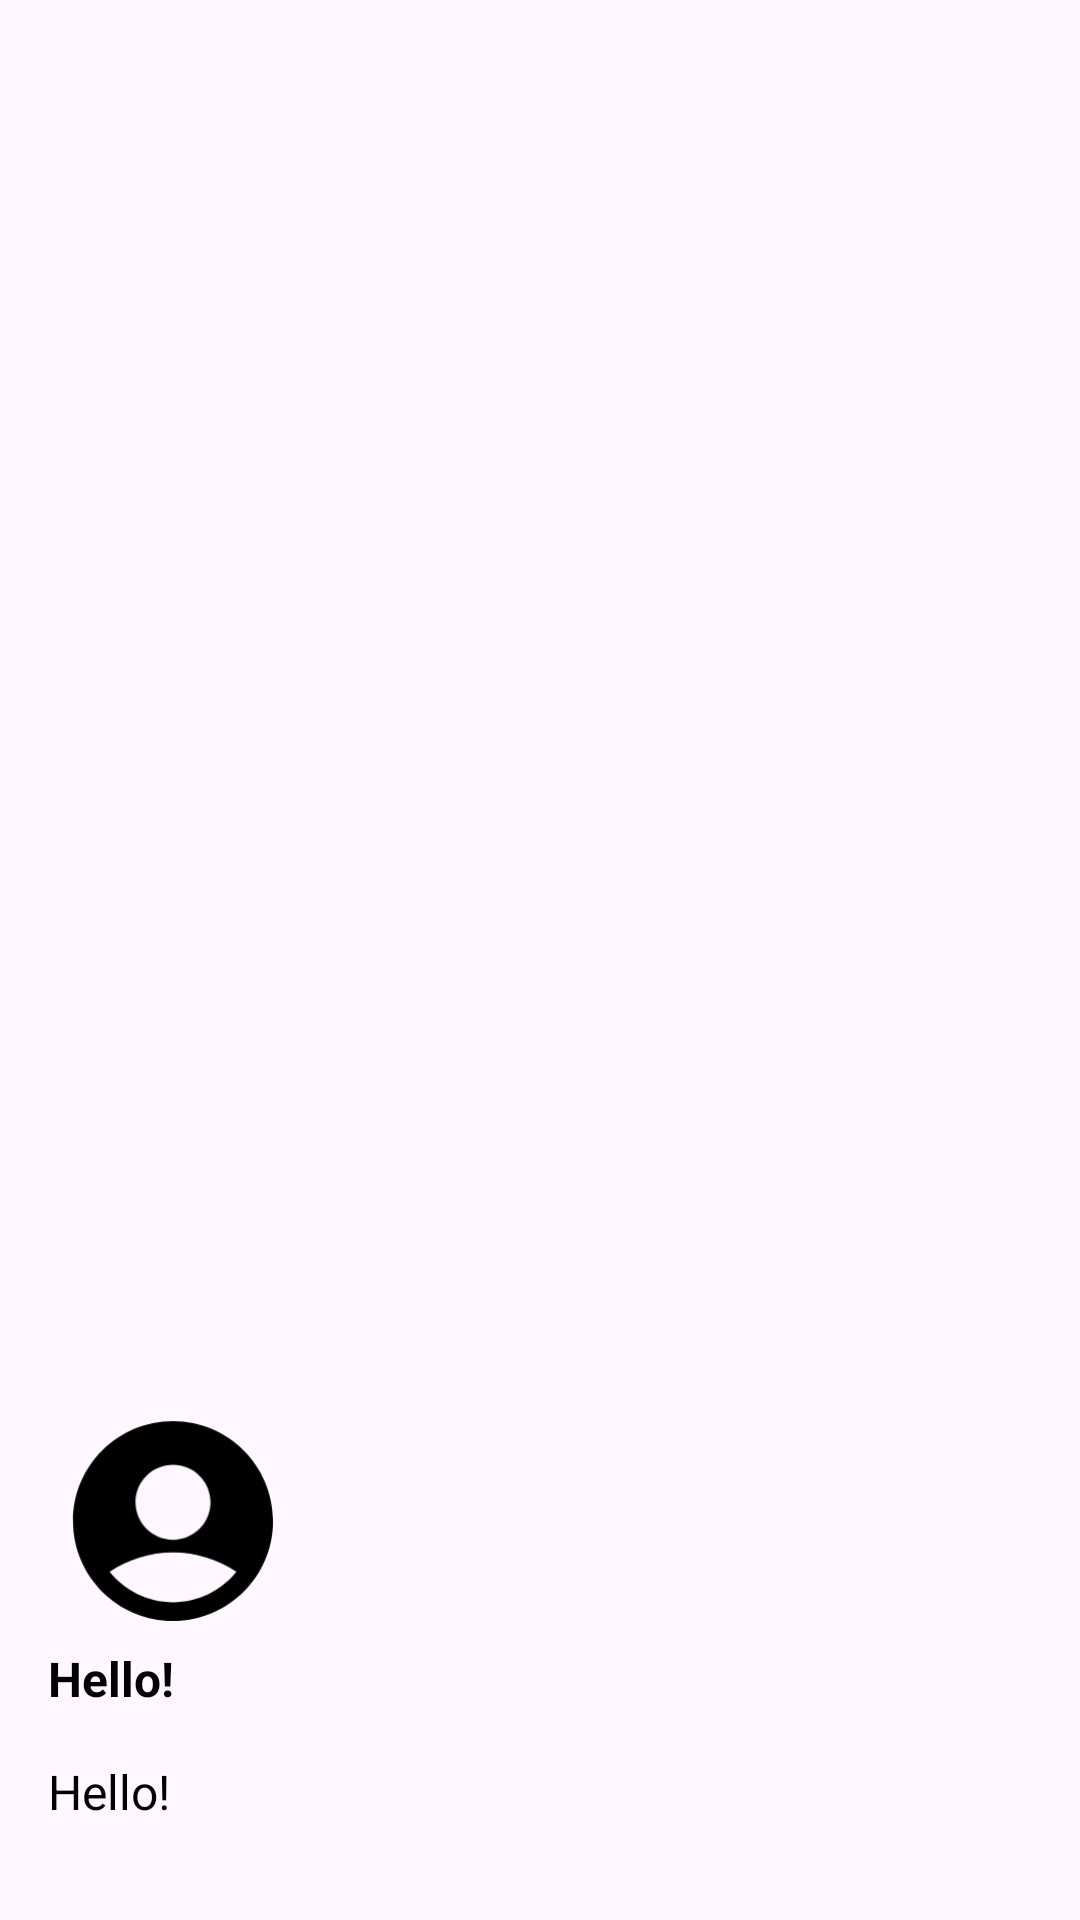

Icons on this 1080px×1920px Android screen, each with the point to tap as (x,y):
account circle: (172,1521)
